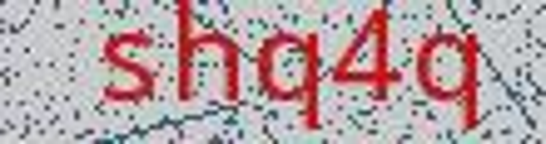4: (331, 2, 404, 106)
h: (165, 2, 246, 105)
q: (254, 23, 332, 135), (415, 22, 492, 135)
s: (88, 19, 159, 113)
